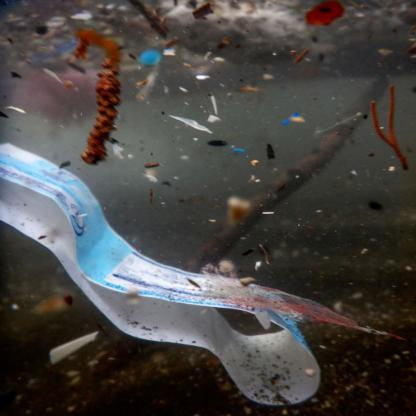waste: (0, 140, 321, 405), (367, 86, 414, 170), (83, 58, 121, 160), (50, 330, 98, 366), (307, 1, 343, 29), (175, 117, 215, 134)
